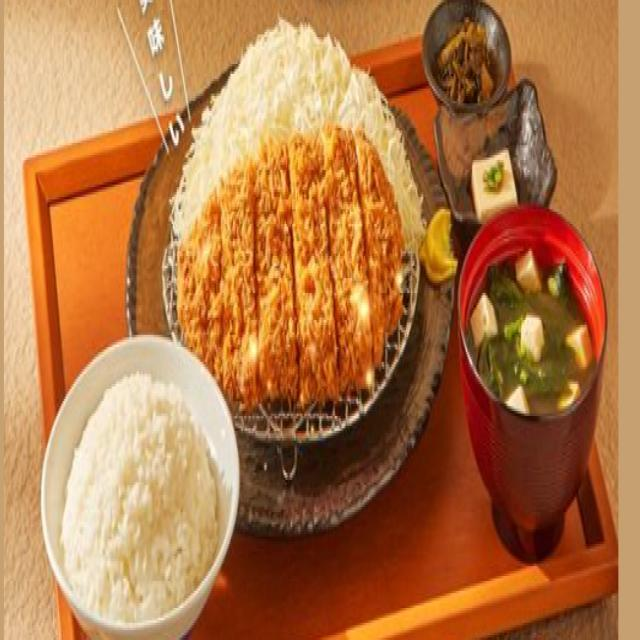cac loai rau cu: (173, 29, 425, 134), (484, 250, 587, 405), (383, 111, 429, 256), (165, 110, 214, 216), (439, 10, 496, 101), (483, 161, 506, 193)
com: (58, 356, 220, 616)
dau hu: (471, 151, 517, 214), (471, 291, 493, 346), (566, 320, 591, 363), (517, 248, 542, 290), (524, 307, 544, 359), (509, 379, 530, 416)
thit heo: (188, 139, 403, 401)
thit heo chien xu tonkatsu: (52, 12, 607, 624)
